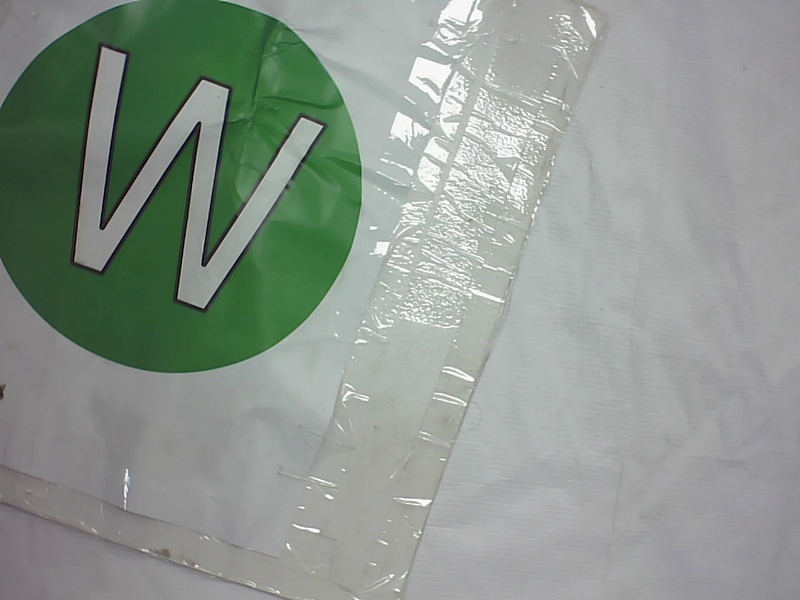areaB: (0, 3, 387, 376)
